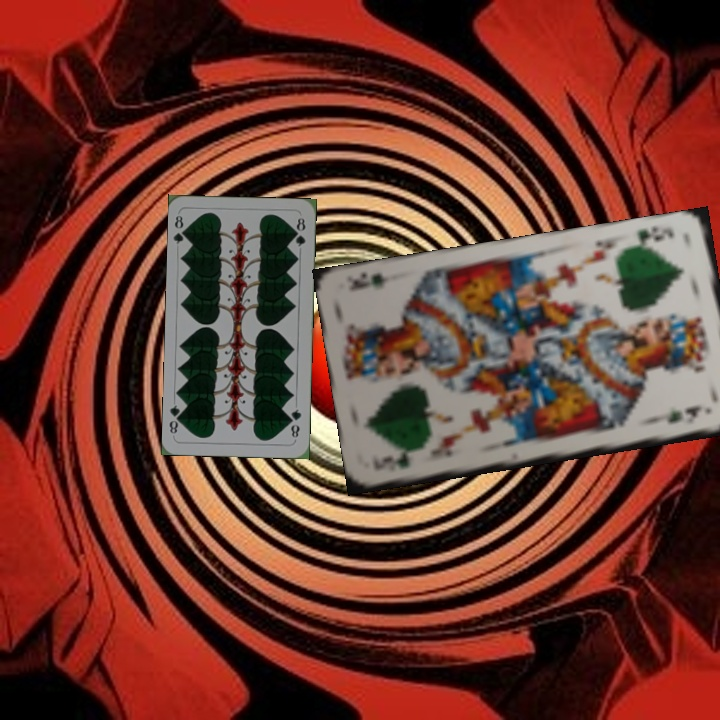G8: (170, 212, 190, 246), (286, 405, 304, 440)
GK: (627, 222, 675, 252), (377, 450, 412, 471)
